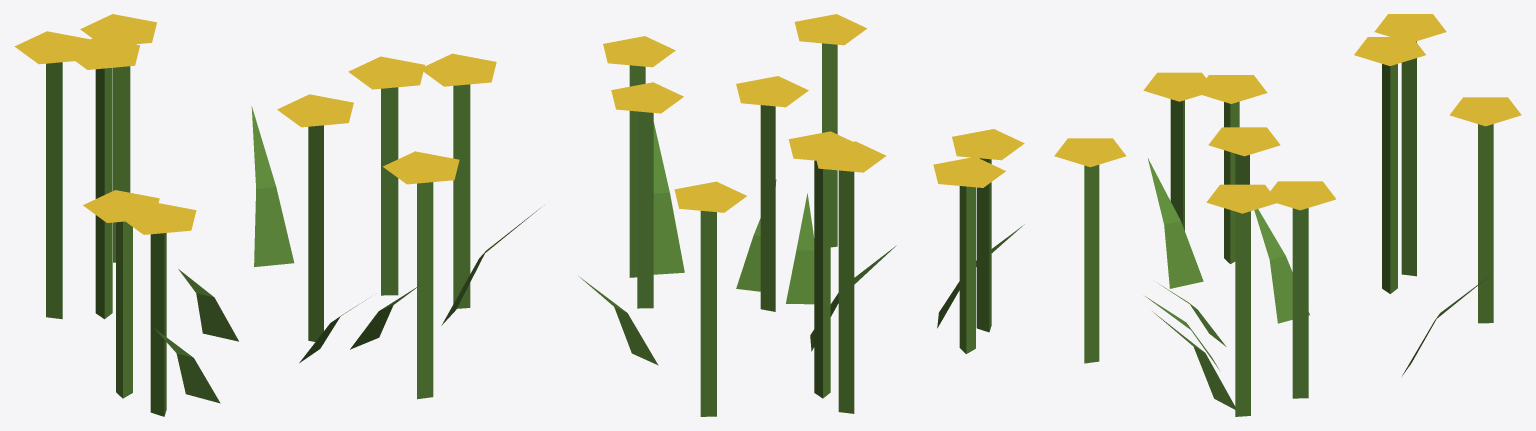
Rendered from fleurs_jaunes.glb.
3 renders of one model, left to right at view 1: azimuth 30°, elevation 25°; view 2: azimuth 150°, elevation 25°; view 3: azimuth 270°, elevation 25°, orthographic. The views are drawn at different scales.
Visible parts, largest first — view 1: fleurs_jaunes; view 2: fleurs_jaunes; view 3: fleurs_jaunes.
Part boxes in pixels (x1=…): fleurs_jaunes: x1=14, y1=14, x2=542, y2=416; fleurs_jaunes: x1=578, y1=14, x2=1024, y2=416; fleurs_jaunes: x1=1054, y1=14, x2=1521, y2=416.
Size of the model in its own units: 0.5688 by 0.3566 by 0.6133.
Materials: 1 (1 with a texture image).
